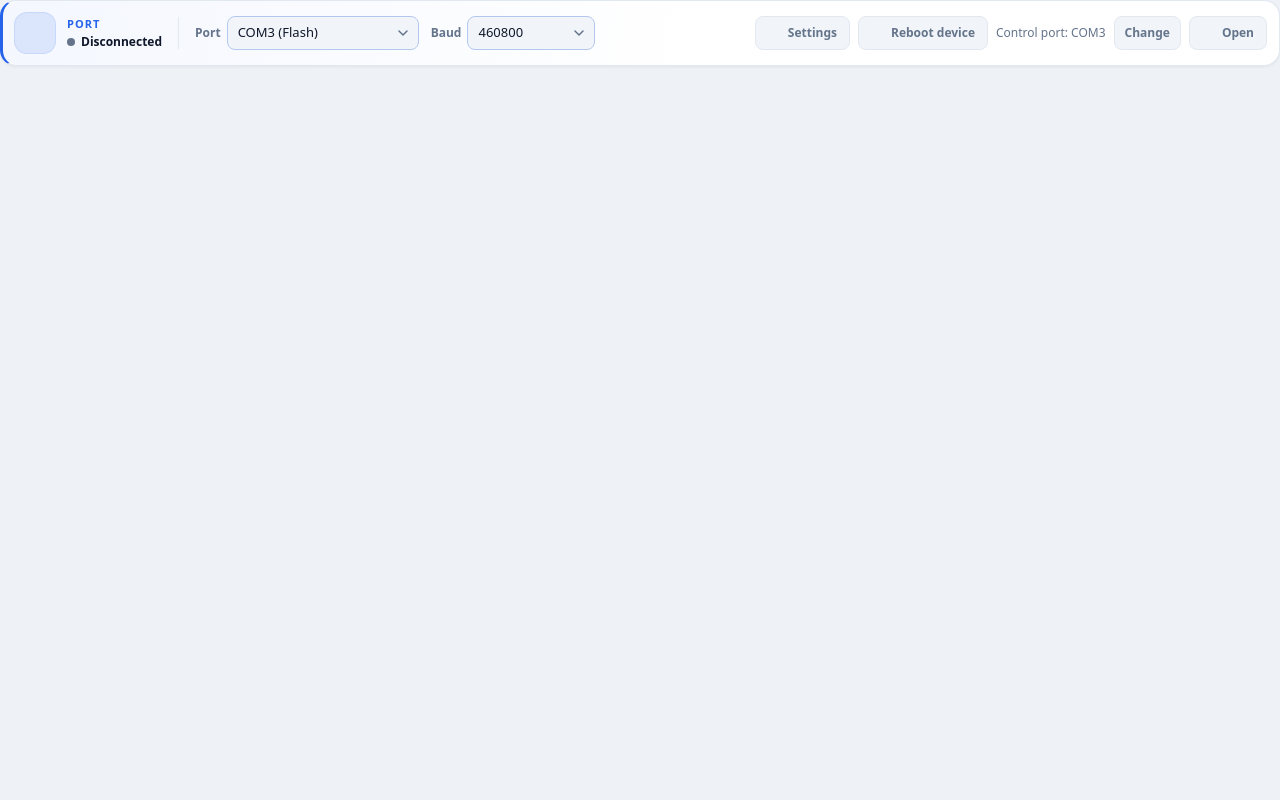
Test: SerialDebugConnectionBar reboot target UI › reopens the reboot target dialog when the user clicks Change
Click the button "Change": (1147, 33) [1114, 16, 1181, 50]
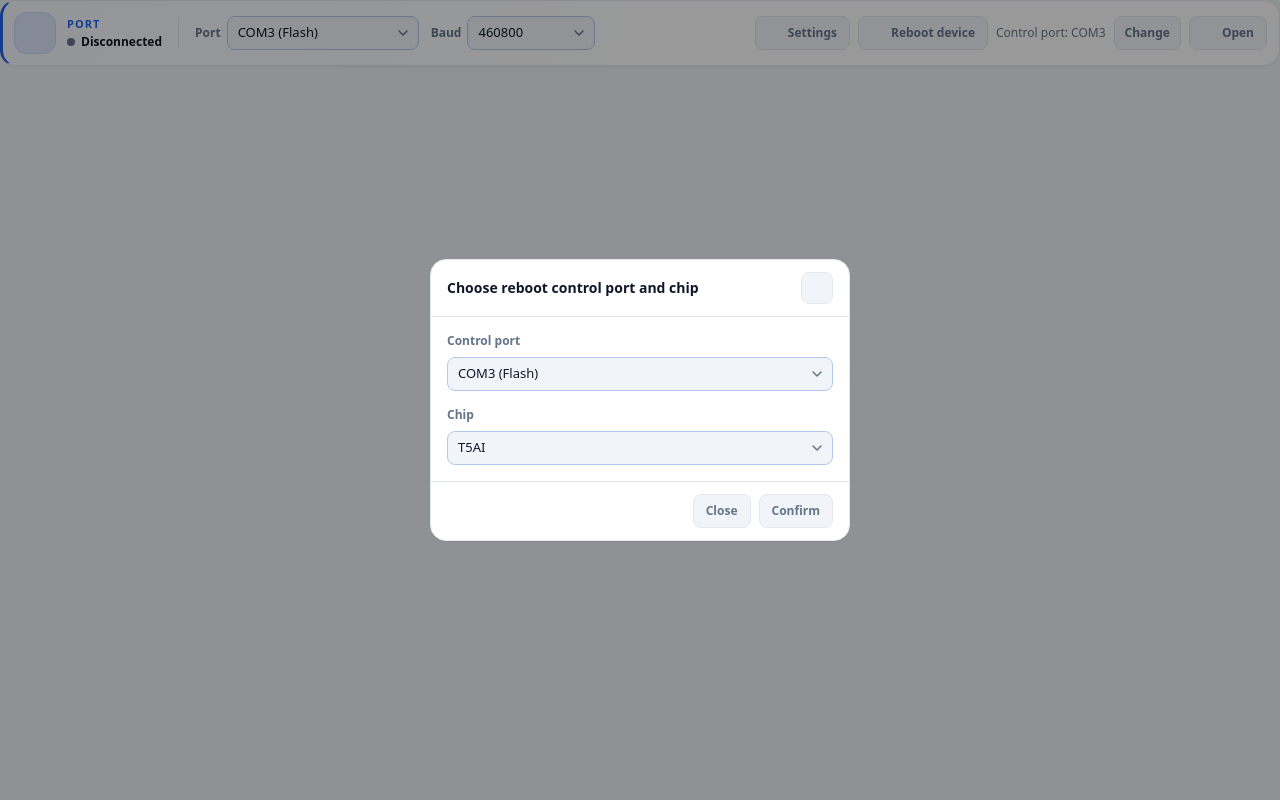
Expected: the text "Choose reboot control port and chip" is shown, [447, 278, 699, 298]
